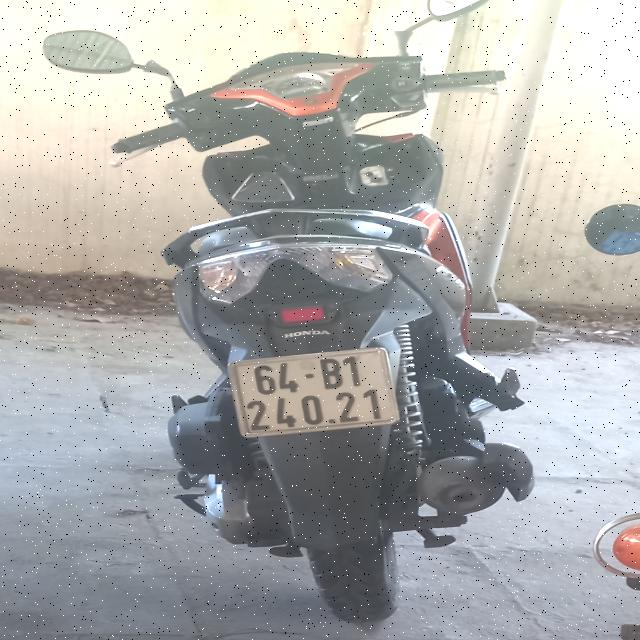0: (301, 395, 322, 424)
1: (343, 356, 361, 386), (363, 389, 380, 419)
2: (334, 392, 359, 421), (245, 400, 269, 430)
4: (278, 362, 300, 392), (275, 398, 296, 427)
6: (253, 364, 276, 394)
B: (319, 358, 343, 388)
